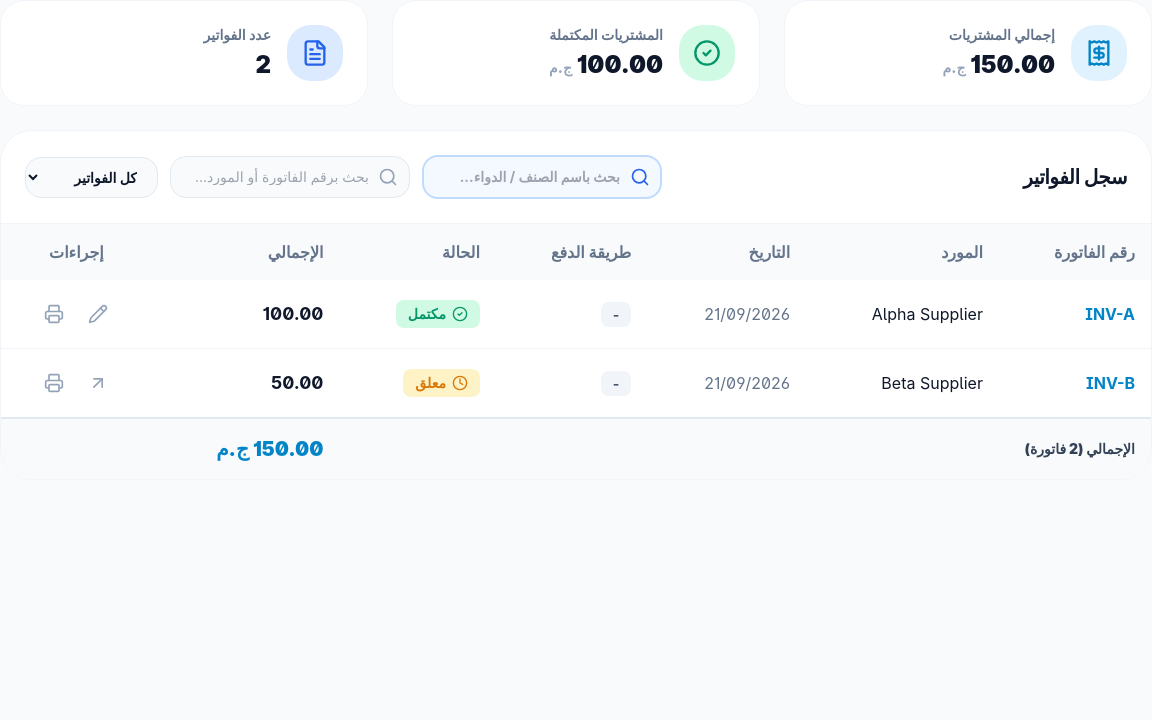
Test case: coverage gap: report error recovery › filters PurchaseReportsClient locally and opens the filtered invoice details from Enter
Check: the text "INV-A" is shown, box [999, 280, 1151, 348]
Check: the text "INV-B" is shown, box [999, 348, 1151, 418]
In the field with placeholder "بحث باسم الصنف / الدواء...": coordinates (542, 177) [422, 155, 662, 199], type "Panadol"
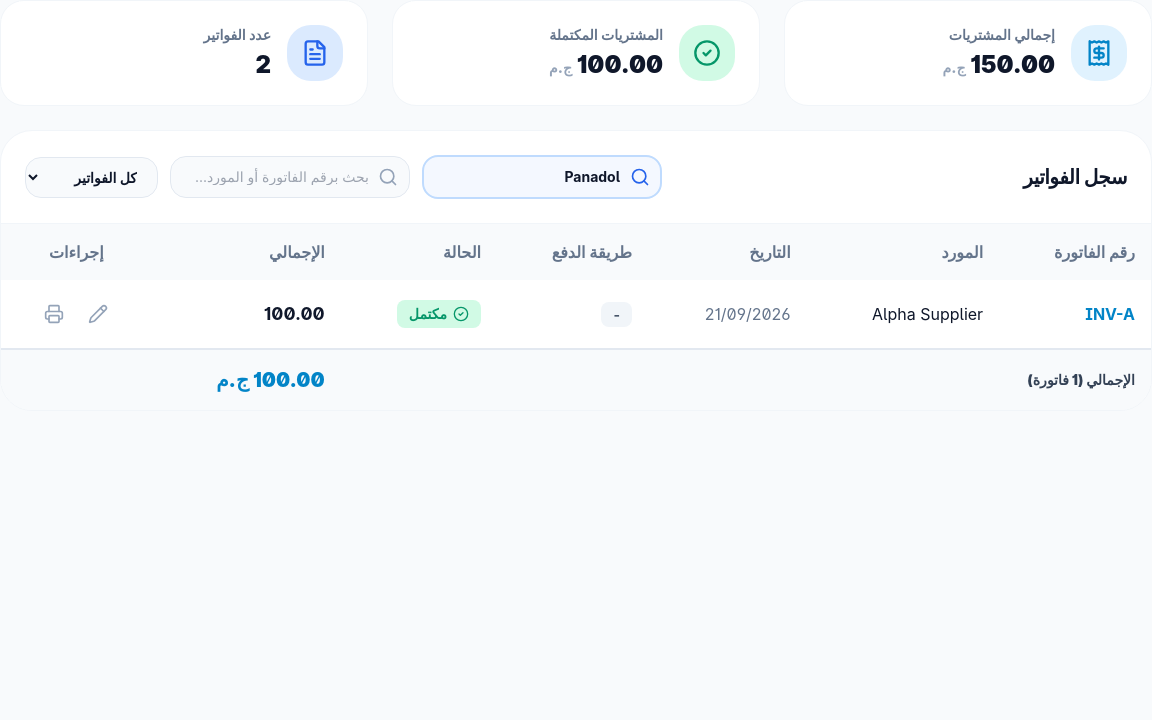
Check: the text "INV-A" is shown, box [999, 280, 1151, 349]
Check: the text "INV-B" is gone
Select "المكتملة فقط" in the dropdown: coordinates (92, 177) [25, 156, 158, 198]
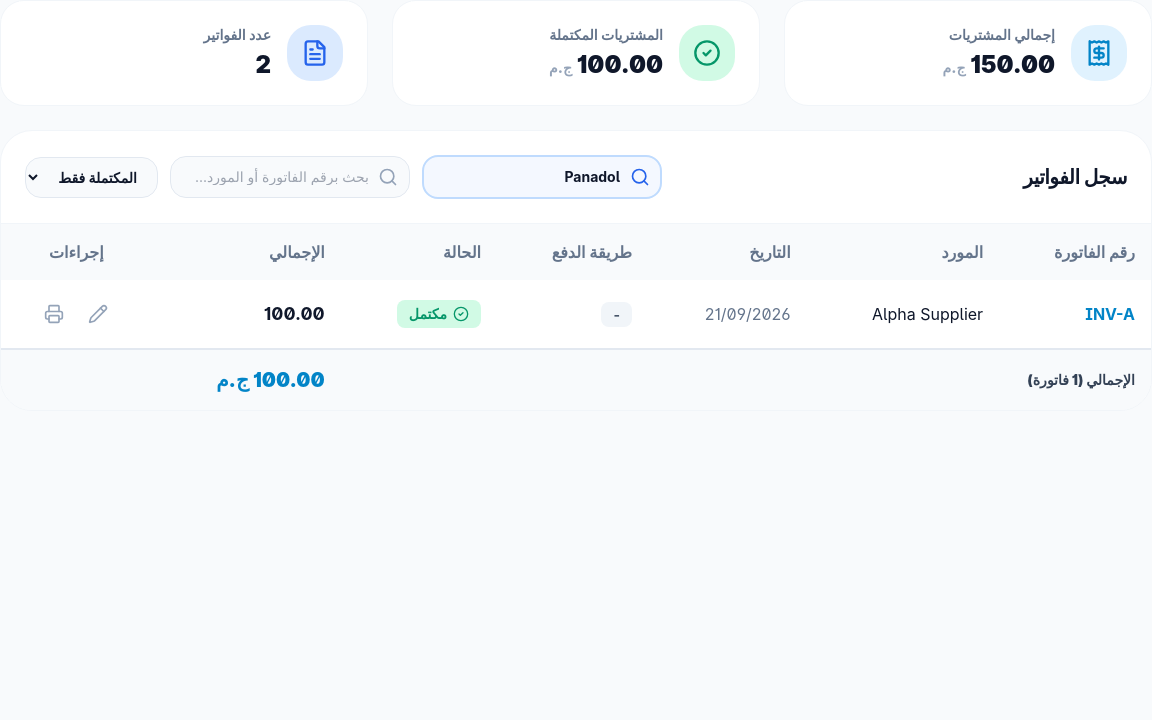
Press Enter in the text "INV-A", box [1, 280, 1151, 349]
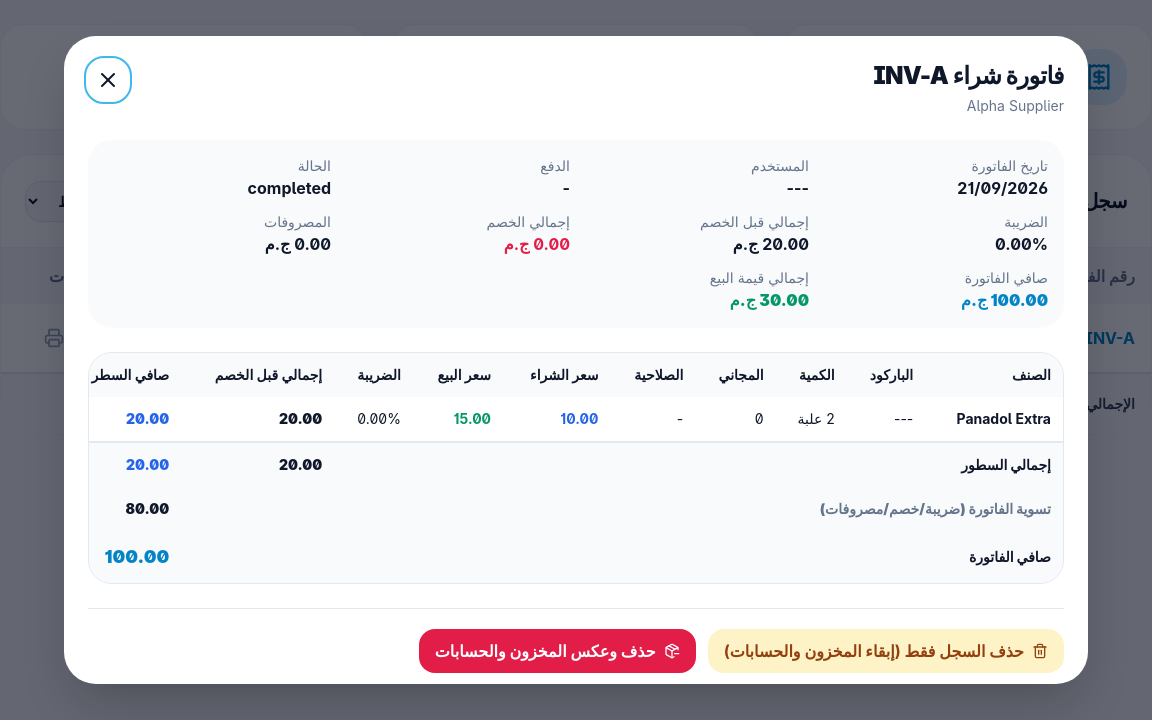
Check: the heading "فاتورة شراء INV-A" is shown, box [873, 60, 1064, 92]
Check: the text "Panadol Extra" is shown, box [925, 397, 1063, 442]
Click the button named "إغلاق تفاصيل فاتورة الشراء": coordinates (108, 80) [88, 60, 128, 100]
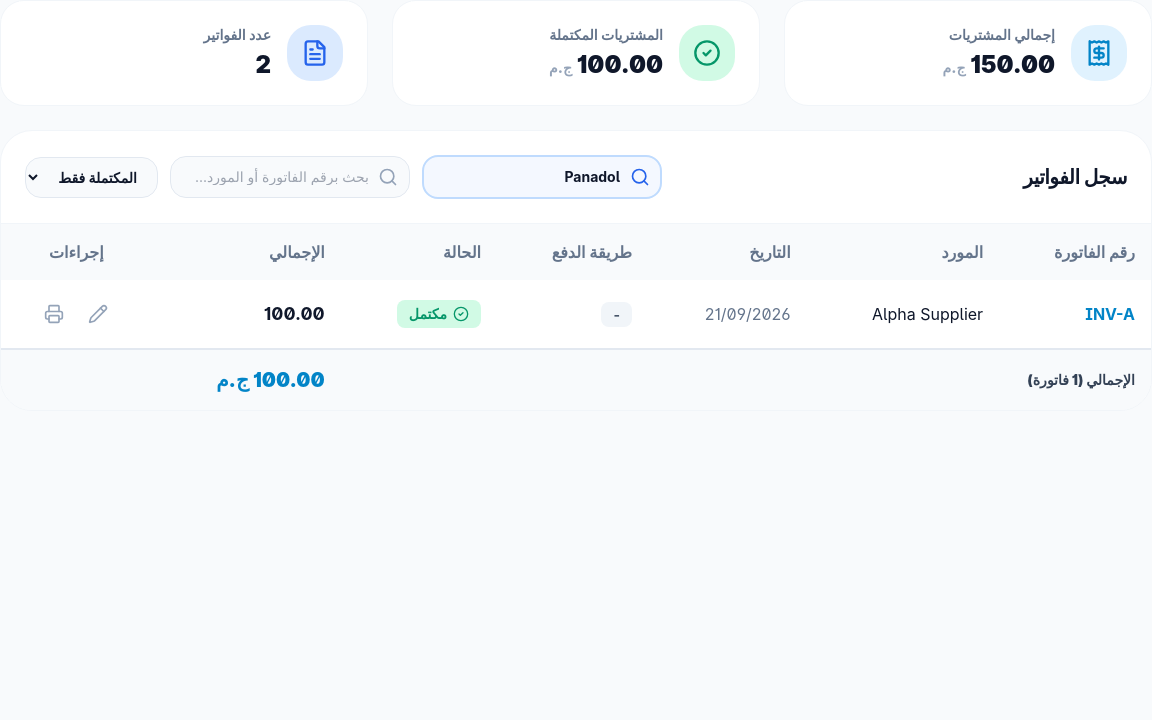
Press Space in the text "INV-A", box [1, 280, 1151, 349]
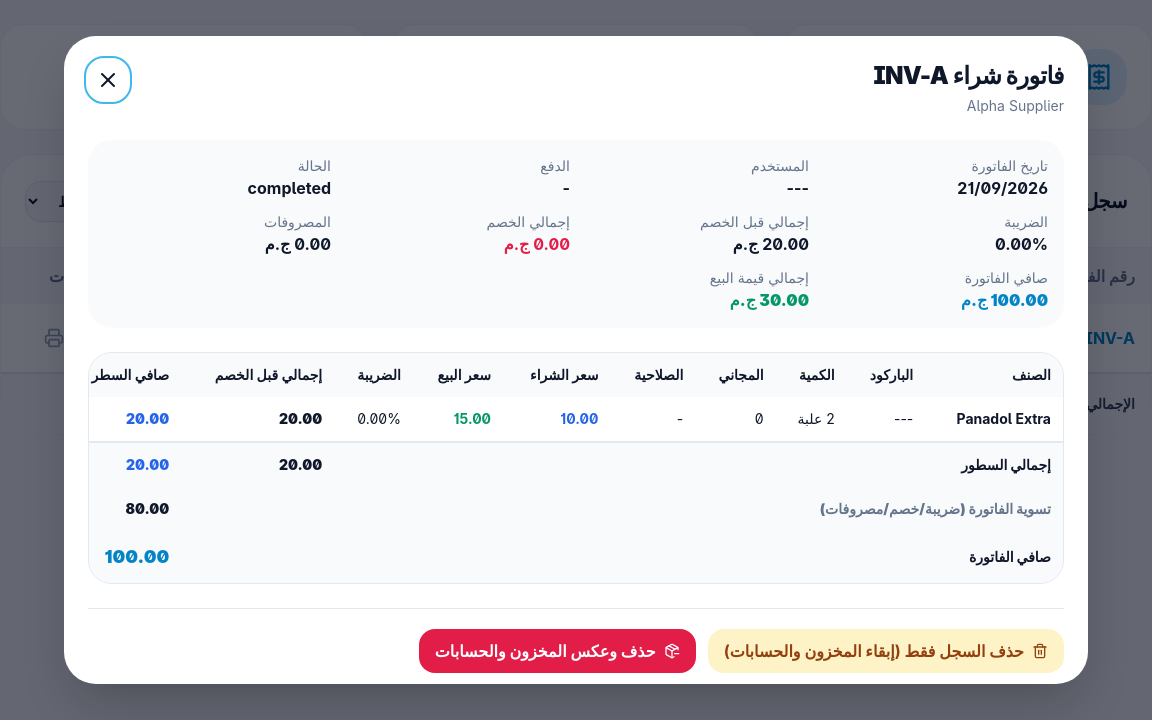
Check: the heading "فاتورة شراء INV-A" is shown, box [873, 60, 1064, 92]
